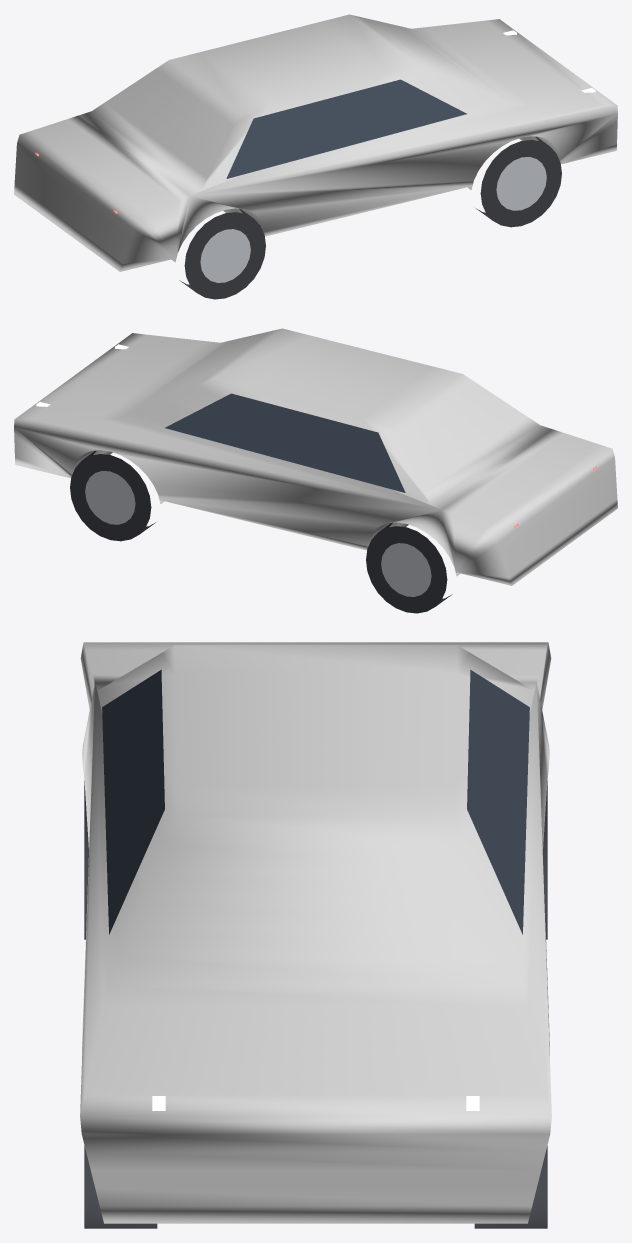
The model's file is lada_sport.glb.
3 renders of one model, top to bottom at view 1: azimuth 30°, elevation 25°; view 2: azimuth 150°, elevation 25°; view 3: azimuth 270°, elevation 25°, orthographic. The views are drawn at different scales.
Parts seen in each view (by area): view 1: Car; view 2: Car; view 3: Car.
Part boxes in pixels (box(x1,y1,x2,y2)): Car: box(14, 14, 617, 299); Car: box(14, 328, 617, 613); Car: box(80, 642, 551, 1228).
Bounding box in the file's own units: 3.76 × 1.18 × 1.55.
